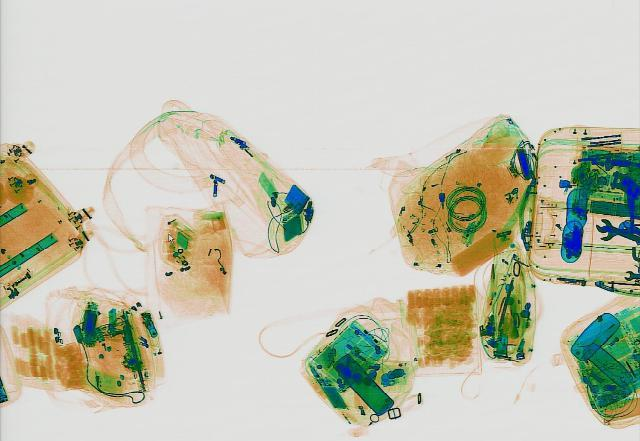Wrench: (592, 217, 638, 242), (598, 225, 638, 238)
